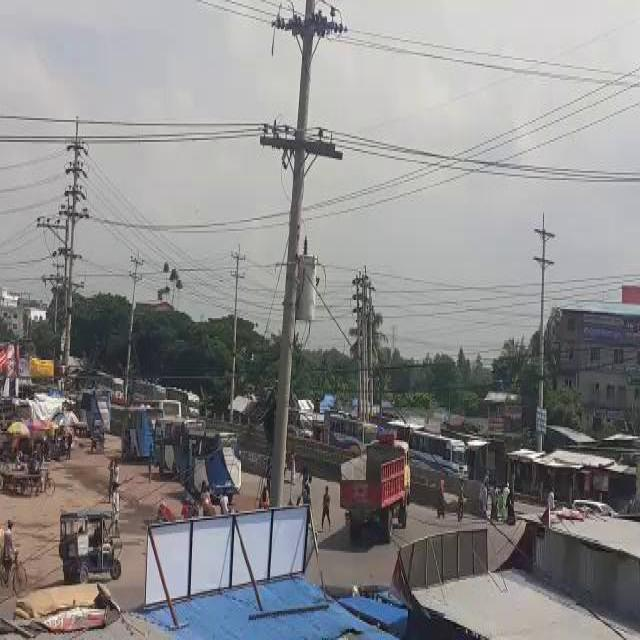13: (198, 484, 226, 516), (156, 494, 172, 524)
18: (339, 432, 411, 543)
Car: (54, 510, 126, 581)
Truck: (185, 427, 239, 493), (404, 429, 468, 476), (117, 407, 159, 462), (152, 417, 196, 468), (324, 412, 376, 452), (72, 386, 114, 428), (134, 393, 180, 429), (166, 382, 196, 413)
